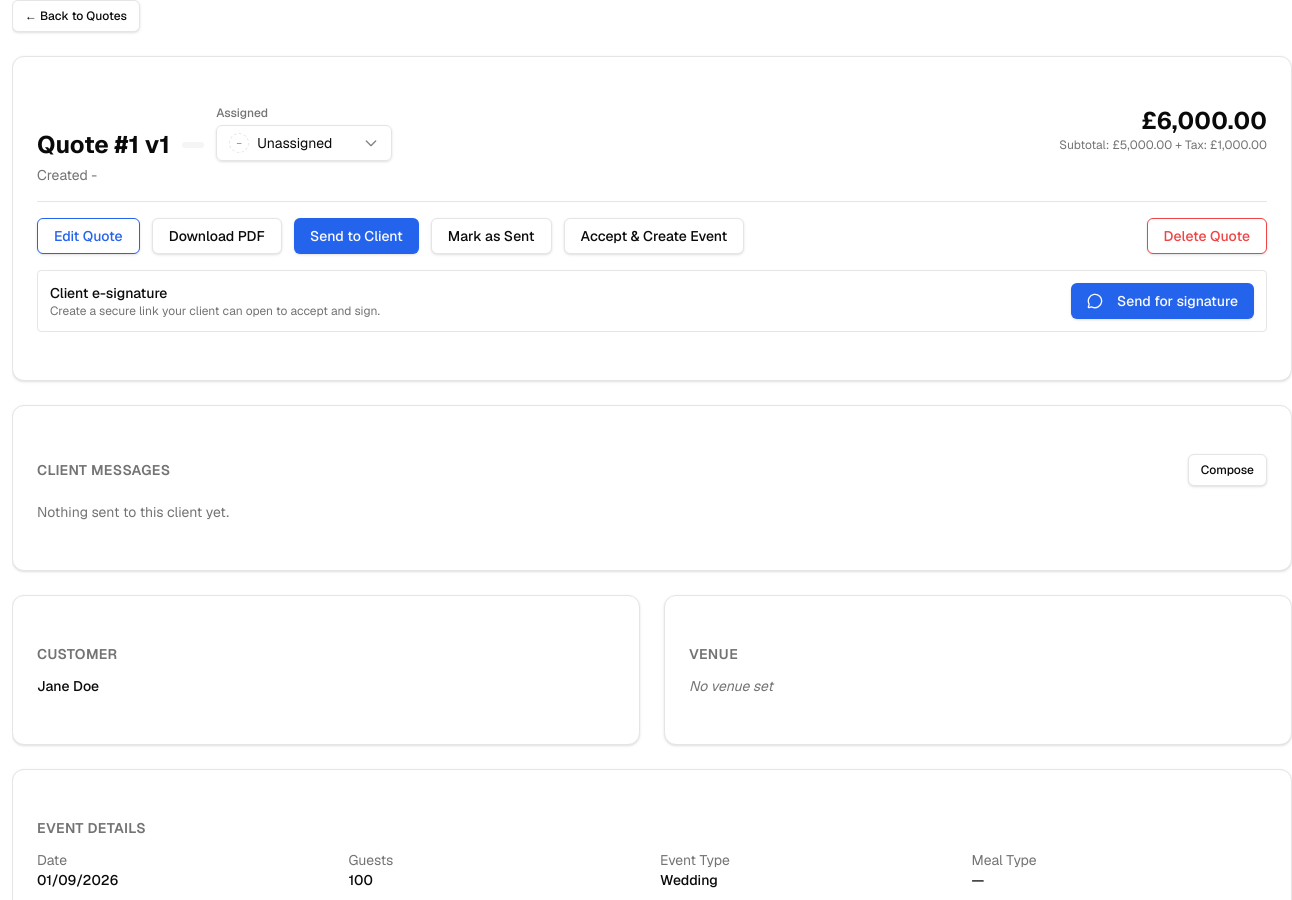
Quote — the one Menu card at proposal › renders a course-less booking as a flat list
Click the button "Edit Quote".
click(88, 236)  # box [37,218,140,254]
(page scrolled)
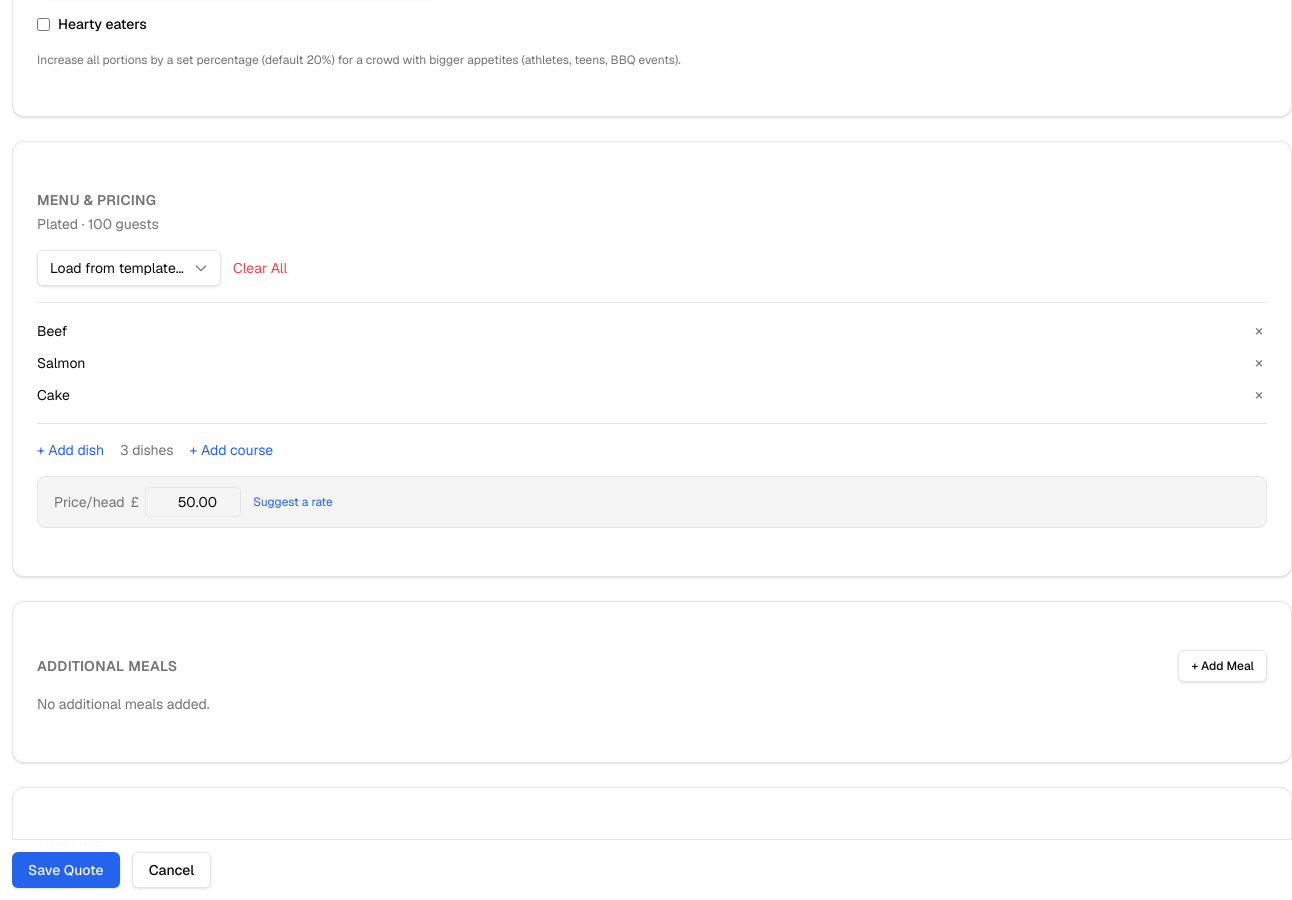
Check: the button "+ Add course" is shown, box [190,440,273,460]
